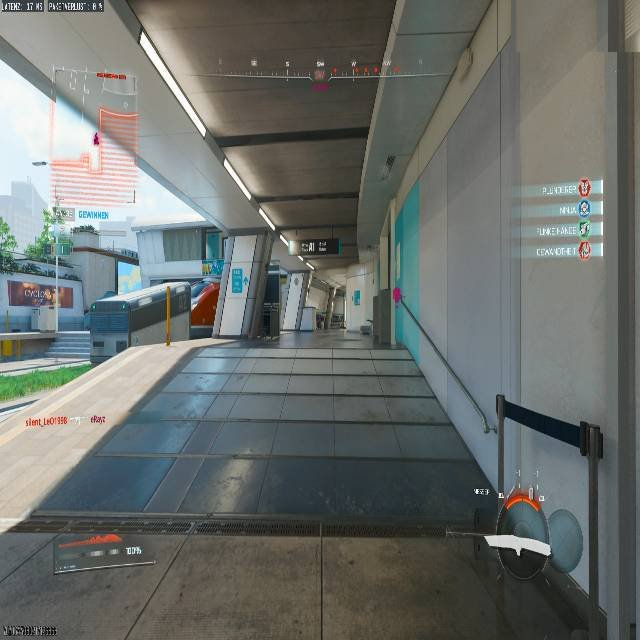player: (484, 499, 602, 640)
